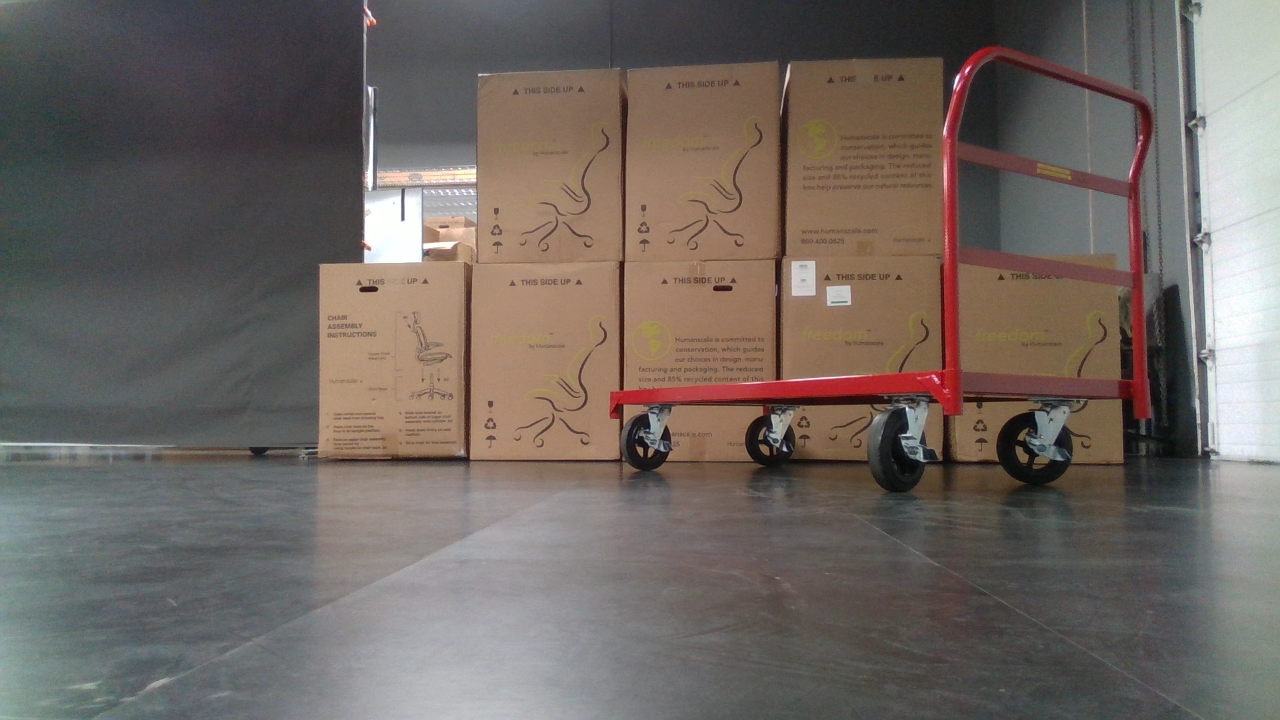Dolly: (610, 44, 1155, 490)
Wheel: (996, 408, 1074, 483), (867, 406, 926, 491), (621, 413, 672, 471), (745, 414, 797, 468)
